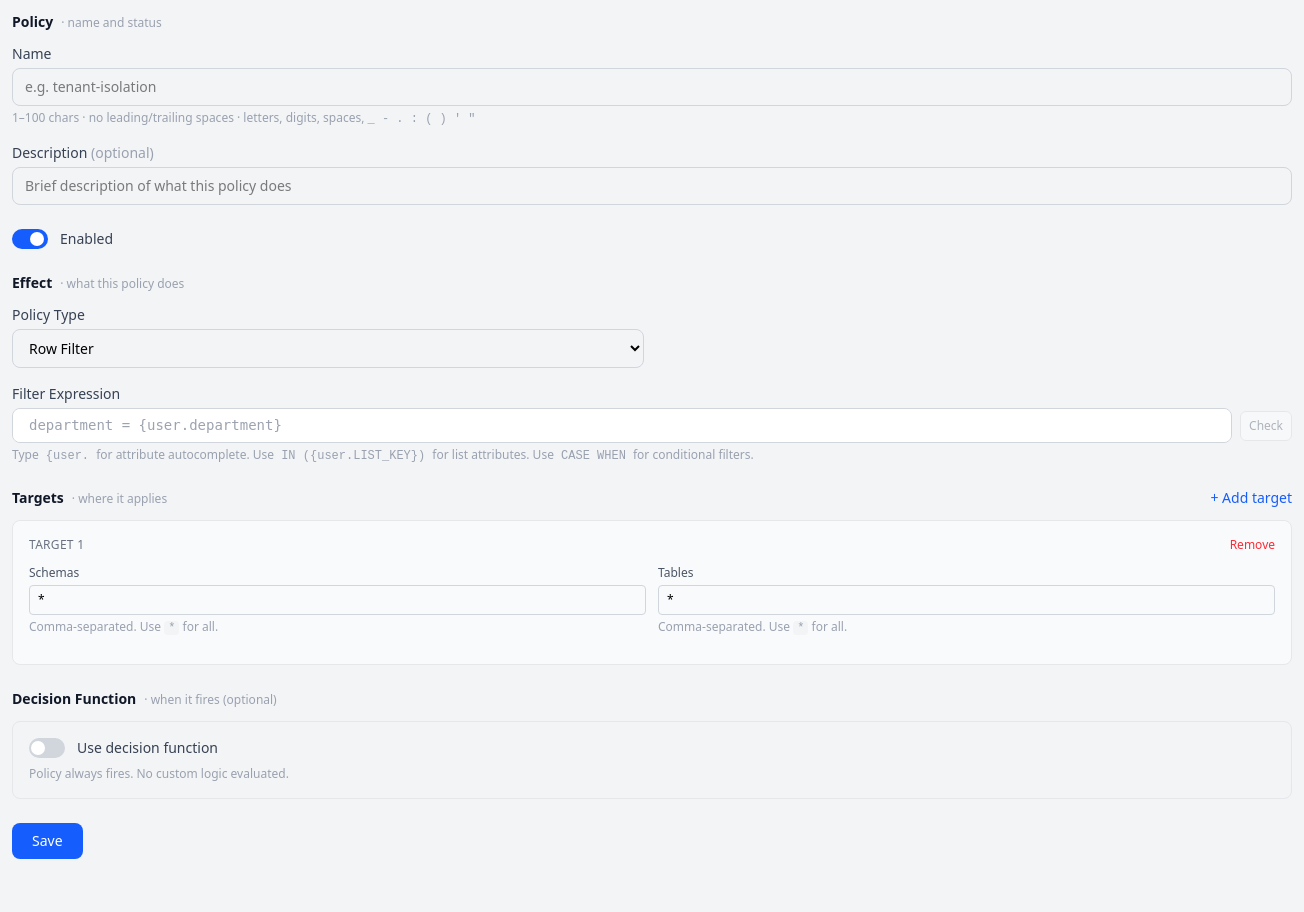
it: PolicyForm — policy type selector › shows mask expression field when column_mask is selected
This screenshot has width=1304, height=912.
Select "Column Mask" in the dropdown at (328, 348), box [12,329,644,368]
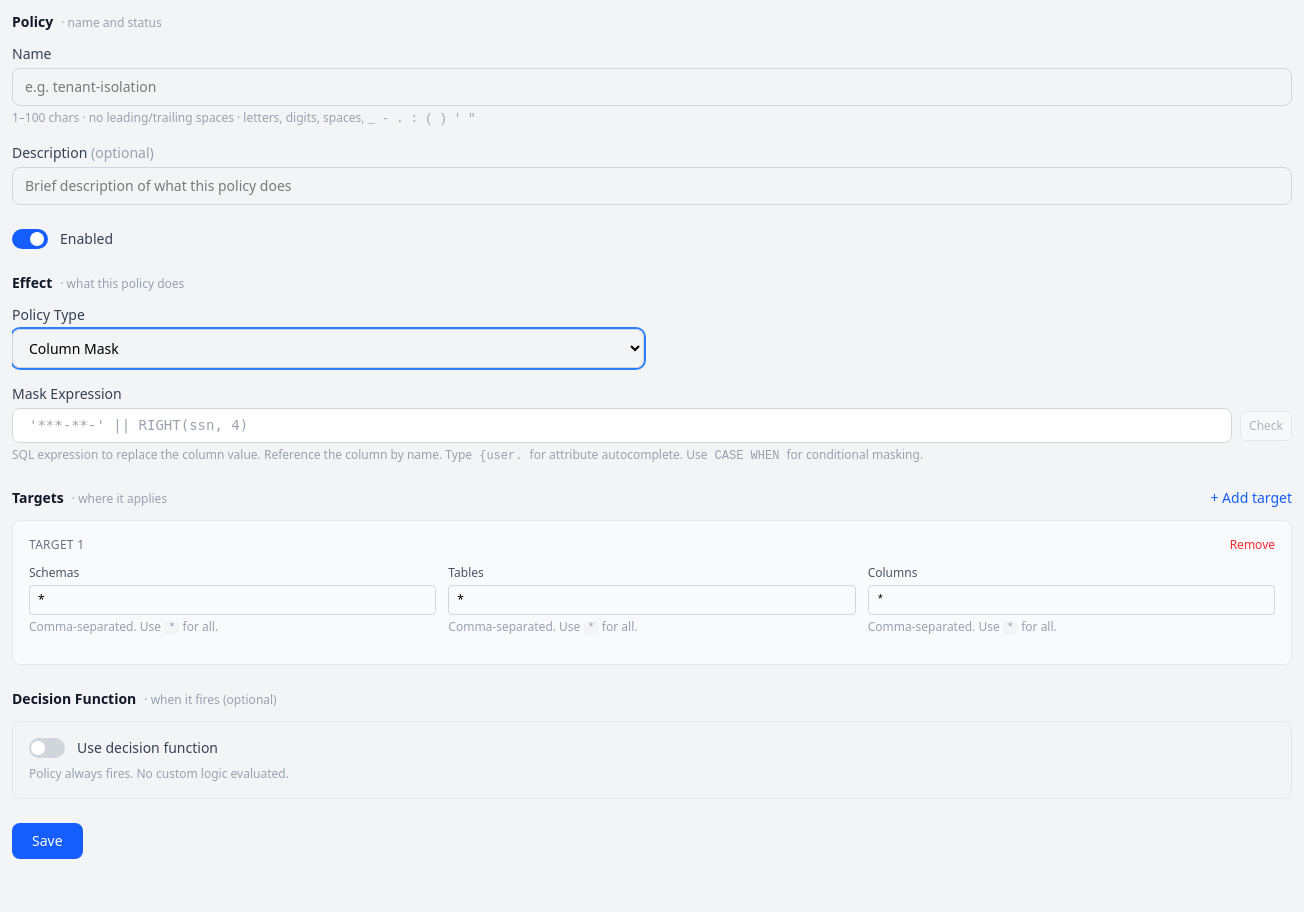
Check: the text "Mask Expression" is shown, box [12,384,122,403]
Check: the text "Filter Expression" is gone
